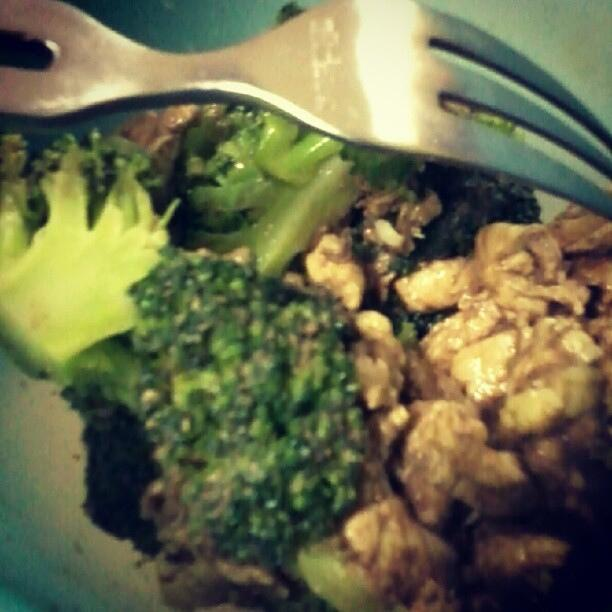broccoli: (66, 253, 370, 568), (0, 127, 181, 382), (230, 153, 356, 283), (409, 162, 544, 264), (254, 110, 344, 186)
